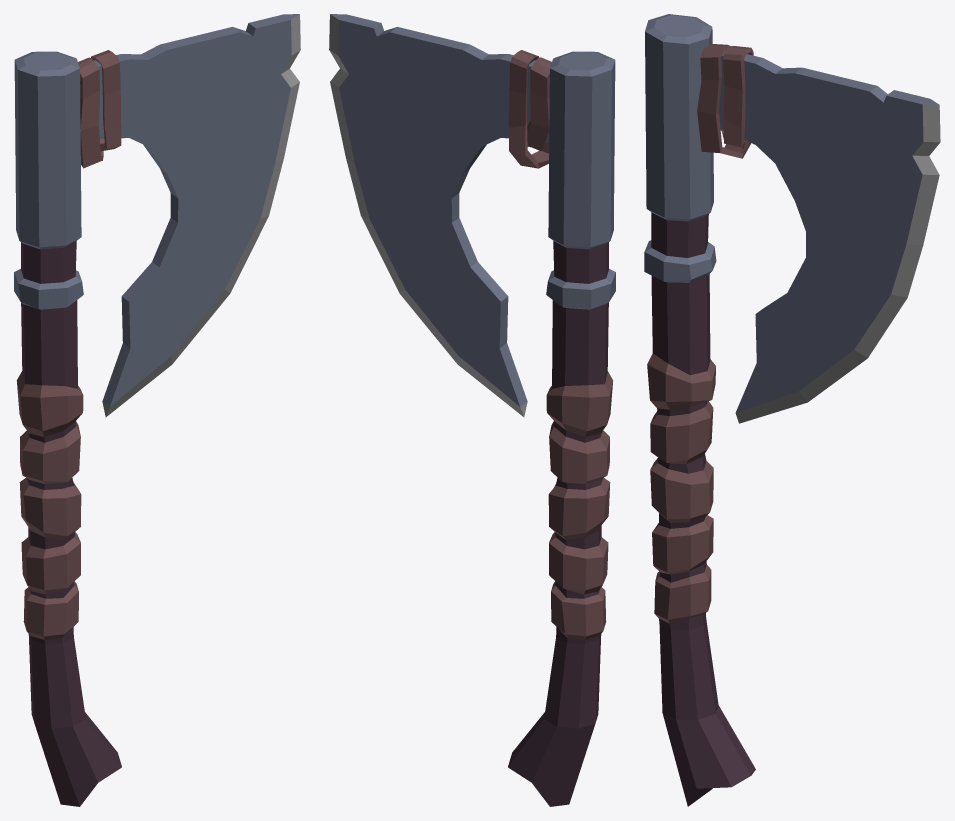
File: Axe_small.glb
3 views of the same model, side by side, from view 1: azimuth 30°, elevation 25°; view 2: azimuth 150°, elevation 25°; view 3: azimuth 330°, elevation 25° (orthographic). The views are drawn at different scales.
Visible parts, largest first — view 1: Axe_small; view 2: Axe_small; view 3: Axe_small.
Boxes of the visible parts, box(x1,y1,x2,y2) form: Axe_small: box(14, 14, 300, 806); Axe_small: box(329, 14, 615, 806); Axe_small: box(644, 14, 940, 806).
Size of the model in its own units: 0.4611 by 1.16 by 0.0978.
